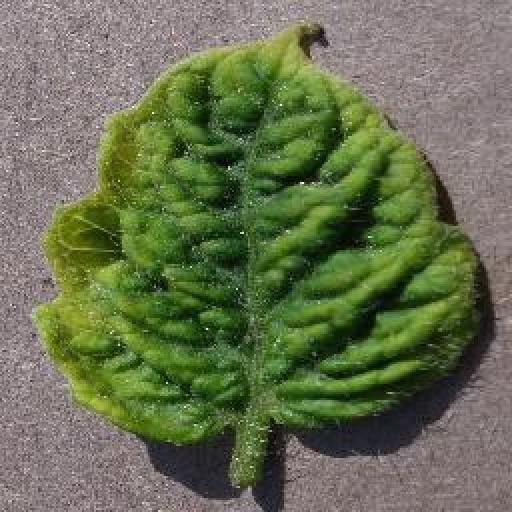disease_tomato: (30, 20, 484, 444)
